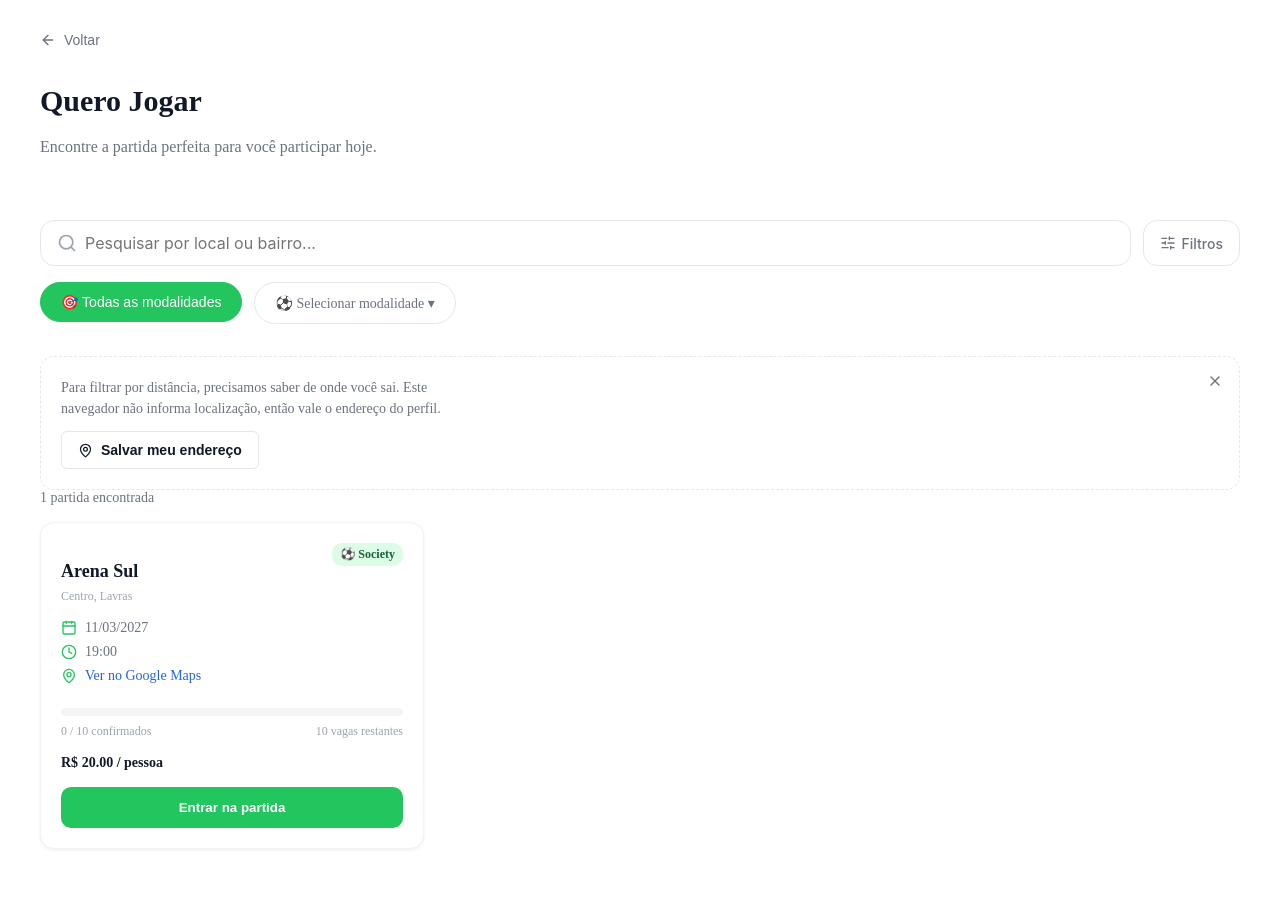
Scenario: QueroJogar — filtro por distância › sem origem, os raios ficam desabilitados e a tela explica por quê
Step 1. Click the button "Filtros" → (1191, 243), box [1143,220,1240,266]
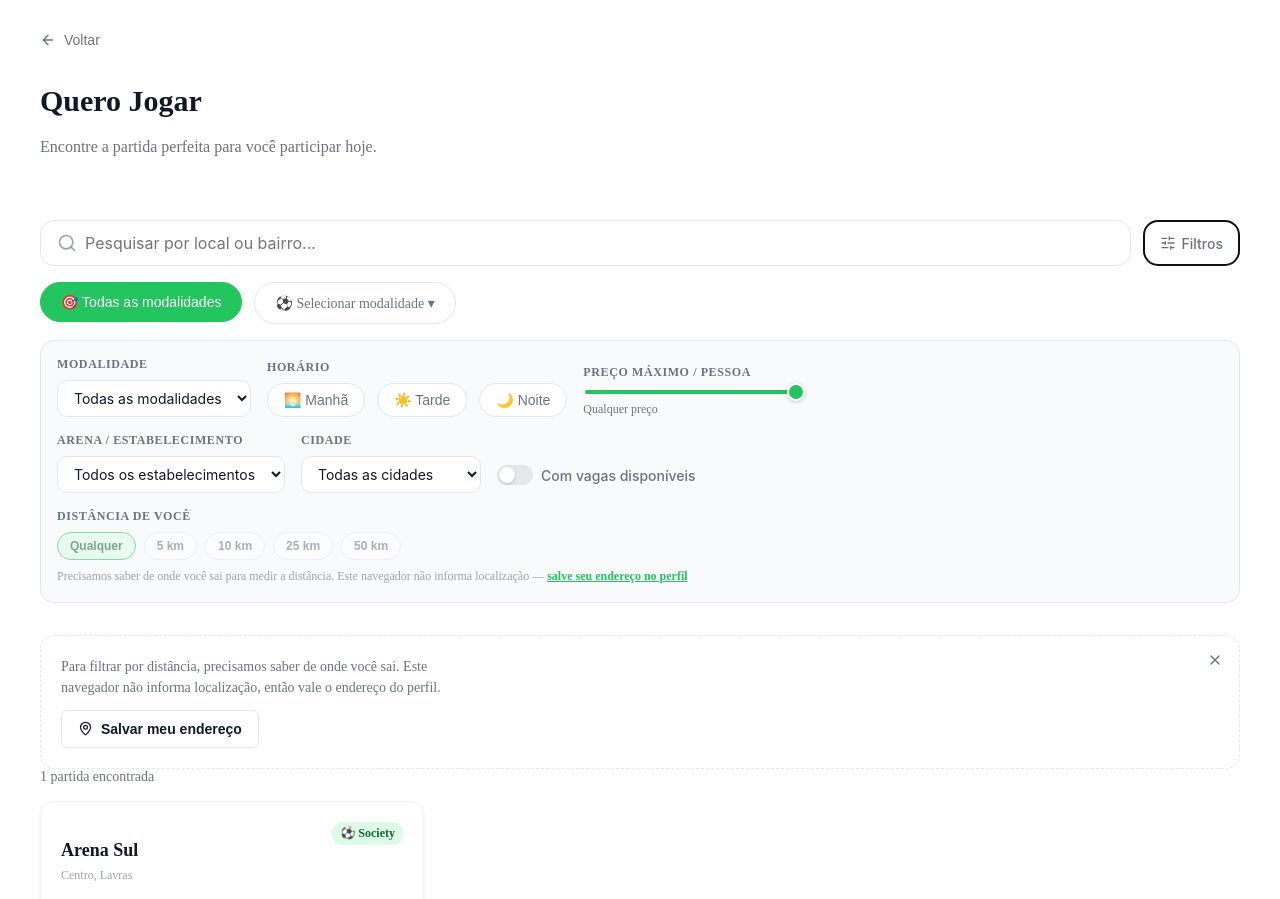
Now the button "10 km" is disabled, box [205,532,265,560]
Now the text "Precisamos saber de onde você sai" is shown, box [57,569,334,583]
